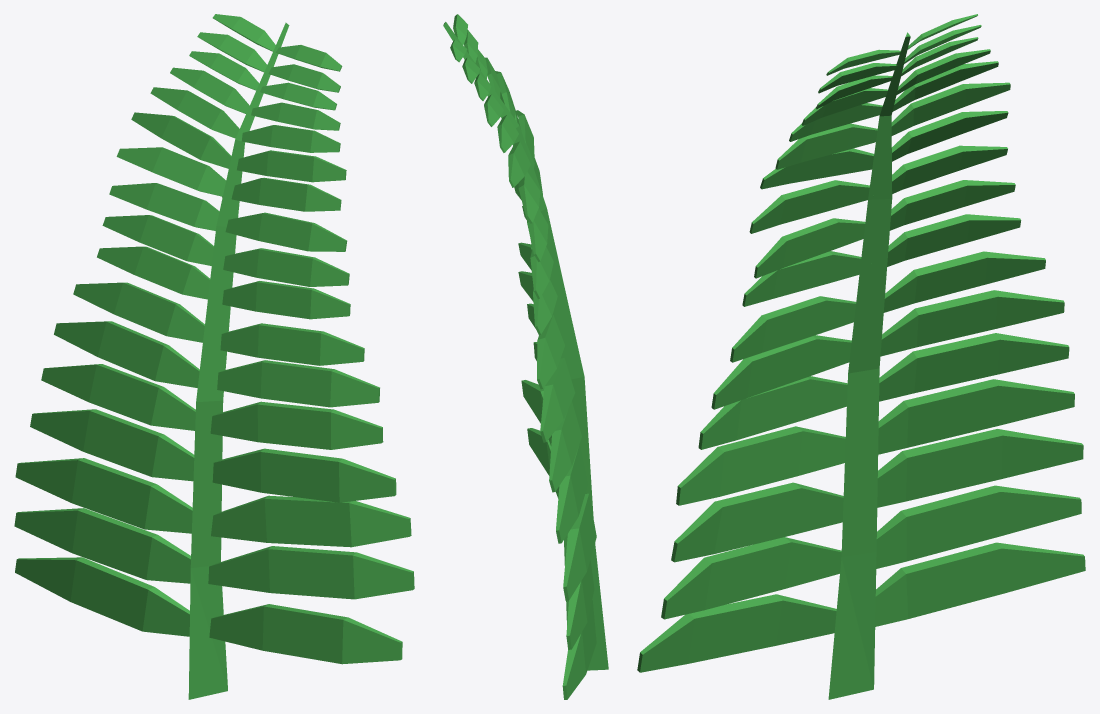
The model's file is Fern.glb.
3 renders of one model, left to right at view 1: azimuth 30°, elevation 25°; view 2: azimuth 150°, elevation 25°; view 3: azimuth 270°, elevation 25°, orthographic. The views are drawn at different scales.
Visible parts, largest first — view 1: Node; view 2: Node; view 3: Node.
Boxes of the visible parts, x1,y1,x2,y2 form: Node: (14, 14, 414, 699); Node: (443, 14, 608, 699); Node: (637, 14, 1085, 699).
Size of the model in its own units: 1.4 by 3.74 by 2.1.
